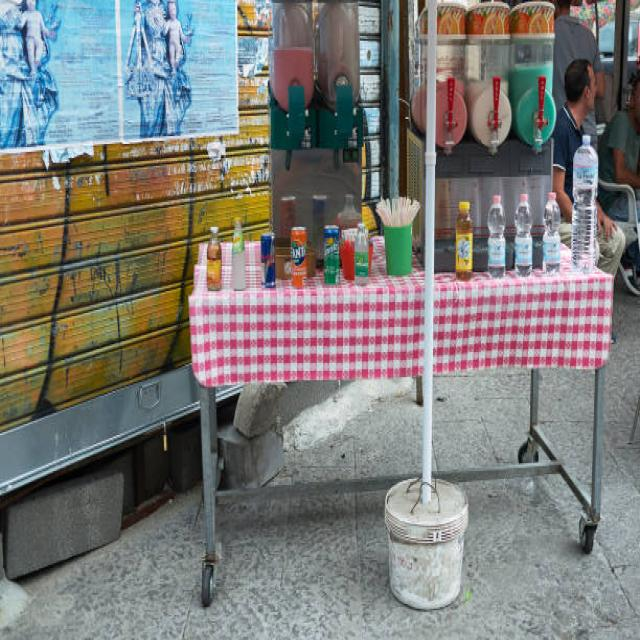Emperan: (159, 138, 626, 616)
